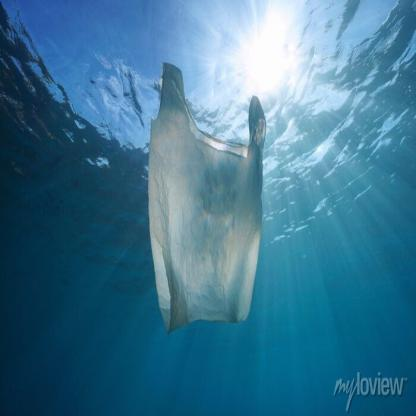plastic-bag: (149, 63, 266, 335)
